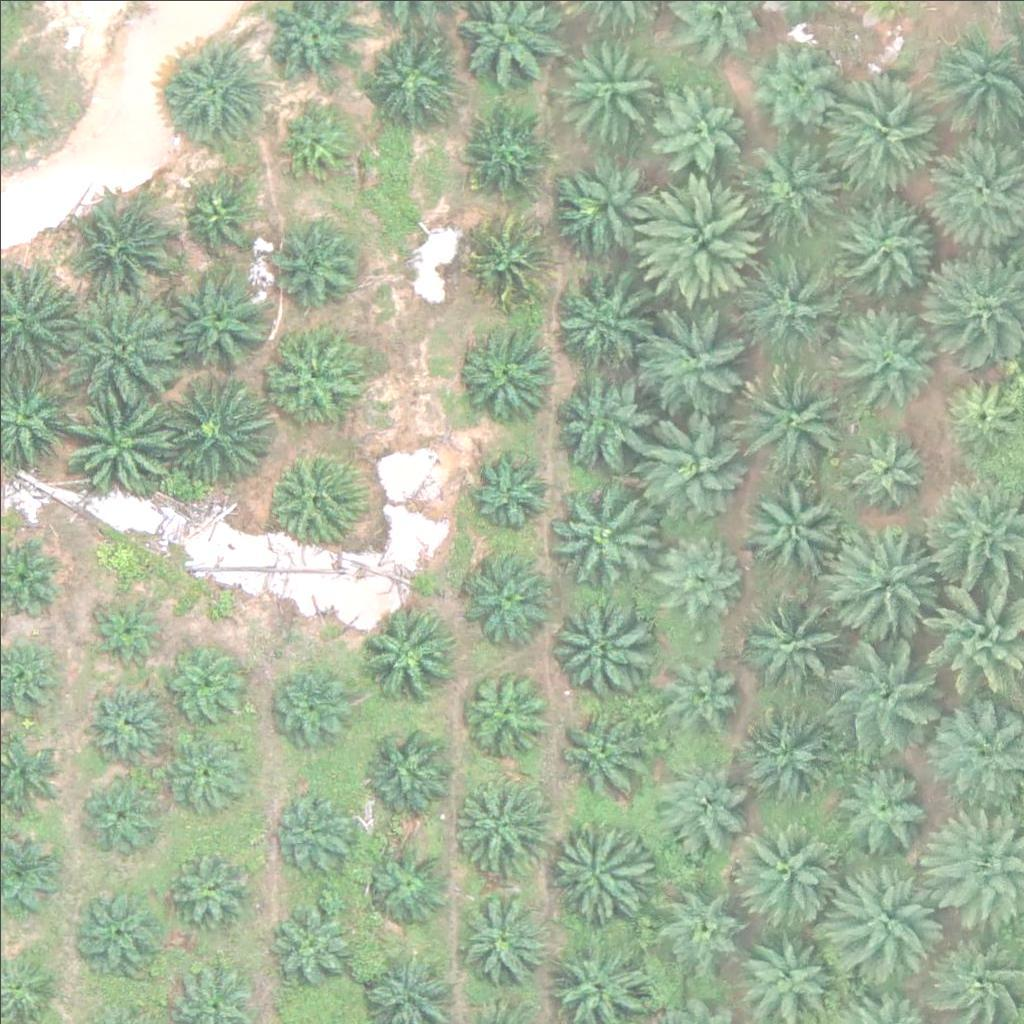Kelapa_Sawit: (630, 174, 755, 300), (640, 308, 753, 422), (739, 579, 852, 693), (738, 361, 851, 474), (734, 249, 847, 362), (827, 194, 940, 307), (161, 367, 274, 480), (546, 478, 659, 591), (822, 634, 935, 747), (633, 403, 746, 516), (541, 592, 653, 706), (824, 856, 936, 970), (61, 288, 173, 401), (835, 293, 947, 406), (830, 76, 942, 189), (62, 384, 174, 497), (727, 811, 839, 924), (828, 529, 940, 642), (173, 270, 273, 371), (453, 328, 553, 429), (546, 269, 646, 370), (560, 32, 660, 133), (743, 140, 843, 241), (741, 39, 841, 140), (359, 714, 459, 815), (358, 598, 458, 699), (449, 770, 549, 871), (549, 814, 649, 915), (740, 476, 840, 577), (835, 764, 935, 865), (75, 196, 175, 296), (165, 36, 265, 136), (262, 328, 362, 428), (551, 363, 651, 463), (561, 163, 661, 263), (264, 443, 364, 543), (456, 543, 556, 643), (547, 699, 647, 799), (646, 755, 746, 855), (739, 699, 839, 799), (277, 223, 365, 311), (366, 28, 454, 116), (466, 217, 554, 305), (268, 896, 356, 984), (275, 794, 363, 882), (173, 846, 261, 934), (75, 891, 163, 979), (459, 661, 547, 749), (467, 448, 555, 536), (840, 423, 928, 511), (464, 109, 551, 197), (656, 85, 743, 173), (269, 659, 356, 747), (159, 642, 246, 730), (163, 727, 250, 815), (78, 766, 165, 854), (77, 682, 164, 770), (364, 841, 451, 929), (455, 897, 542, 985), (655, 878, 742, 966), (655, 634, 742, 722), (650, 529, 737, 617), (88, 597, 163, 673), (278, 104, 353, 180), (183, 179, 258, 254)
